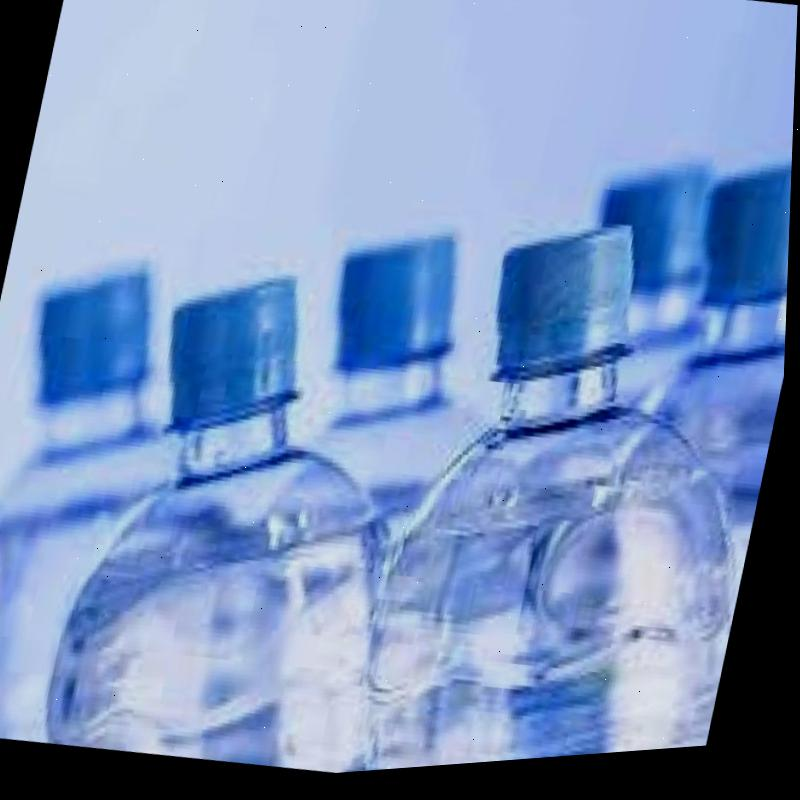botella: (352, 195, 793, 778), (46, 247, 475, 796), (0, 238, 232, 763), (282, 217, 527, 570), (630, 151, 794, 604), (559, 151, 737, 425)
